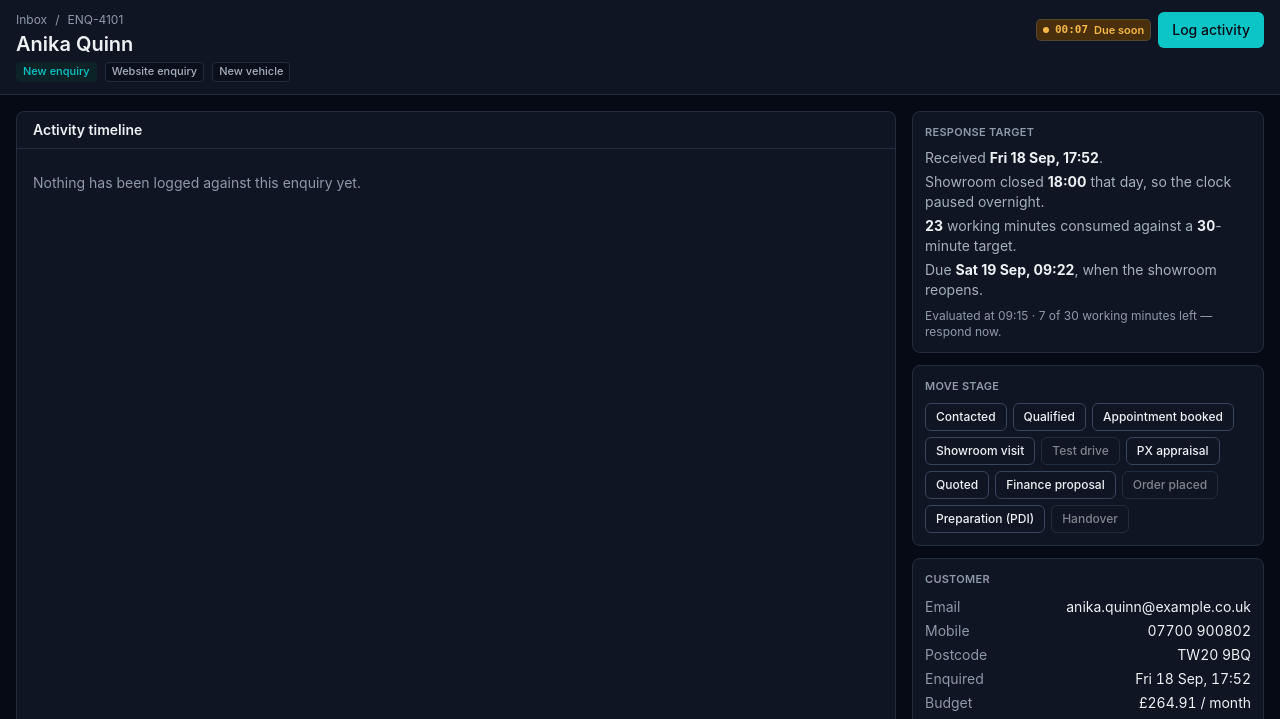
LeadDetailPage › logging an activity › can be cancelled without logging anything
What coordinates should you click on to do the following:
click the button with test id "log-activity-button"
I would click on:
 (1211, 30)
Its box is [1158,12,1264,48].
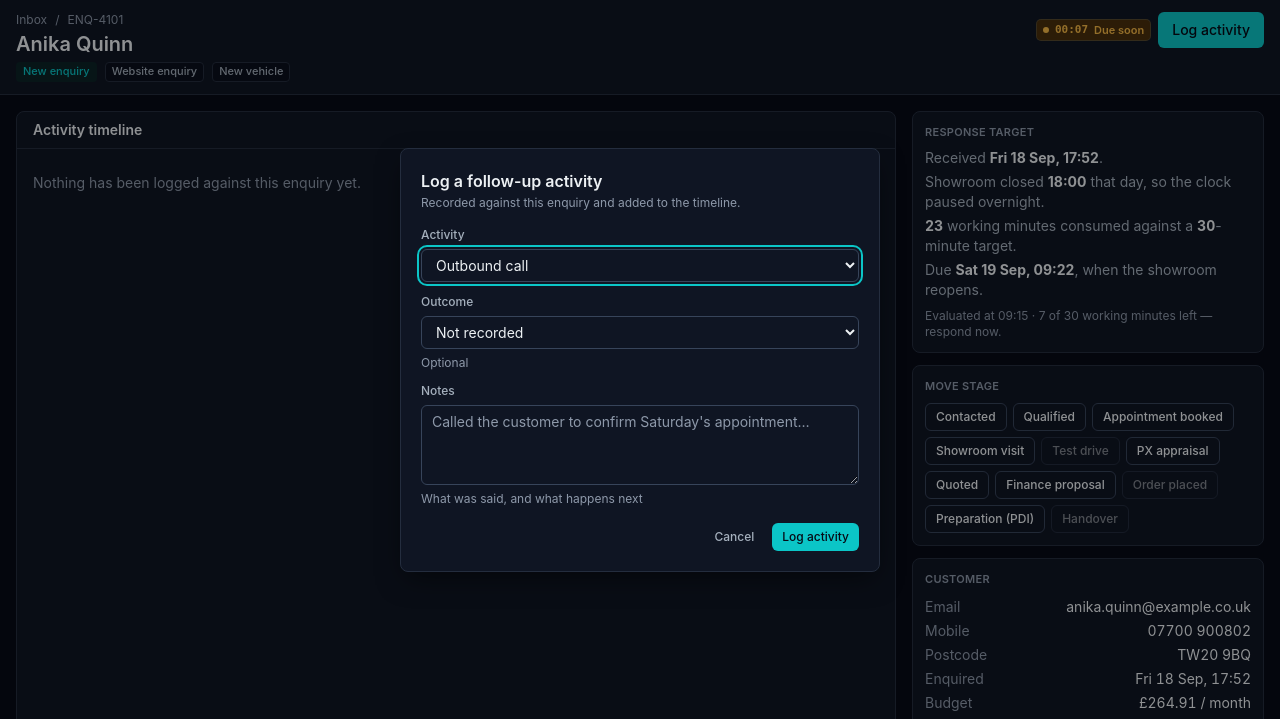
What coordinates should you click on to do the following:
click the button "Cancel"
I would click on:
 (734, 537)
Its box is [704,523,764,551].
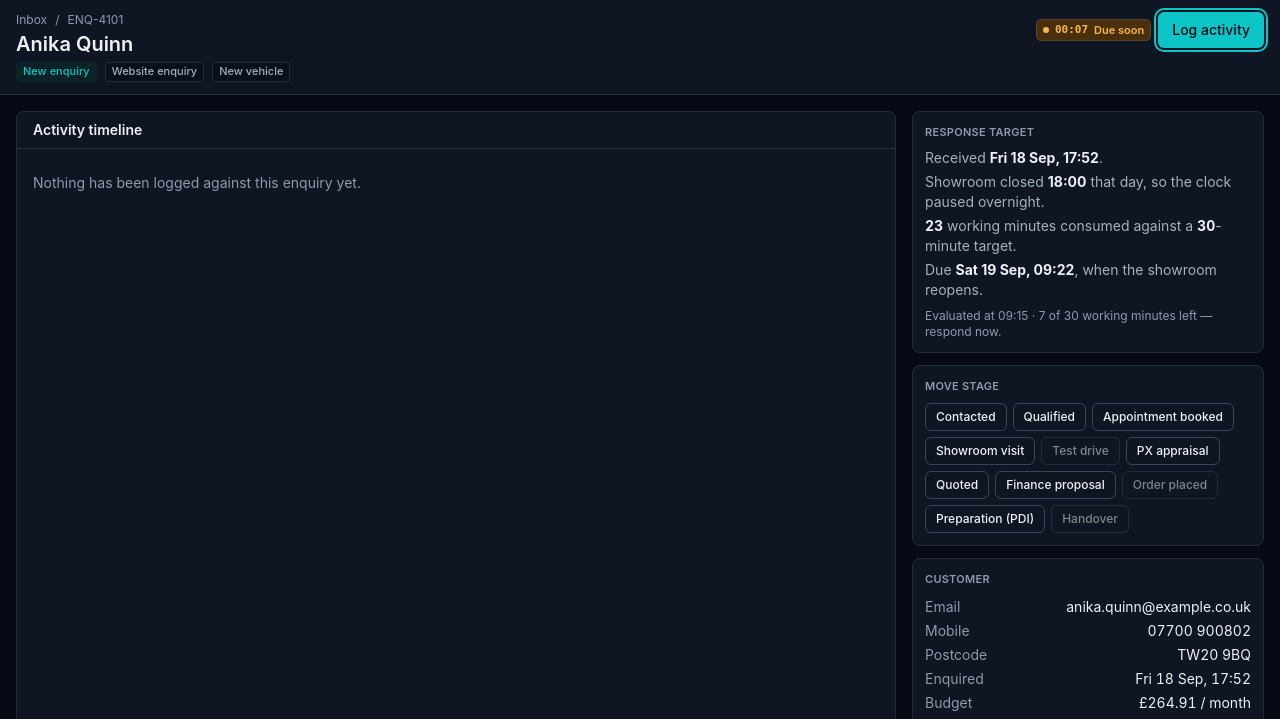
Expected: the text "Nothing has been logged against this enquiry yet." is shown, [33,174,361,191]
Expected: the dialog with test id "log-activity-dialog" is gone
